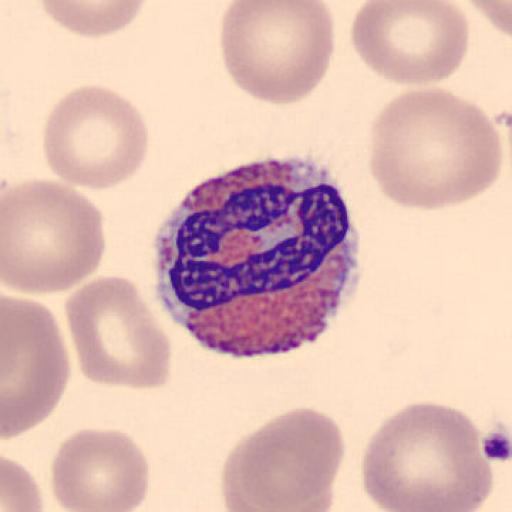RBC: (368, 86, 506, 212), (360, 400, 491, 512), (219, 406, 347, 512), (218, 0, 336, 107), (64, 274, 172, 390), (3, 178, 107, 296), (42, 84, 150, 191), (351, 1, 470, 88), (2, 293, 71, 440), (50, 426, 151, 512), (36, 0, 149, 38), (1, 454, 43, 512), (465, 0, 512, 39)
WBC: (152, 156, 364, 357)
